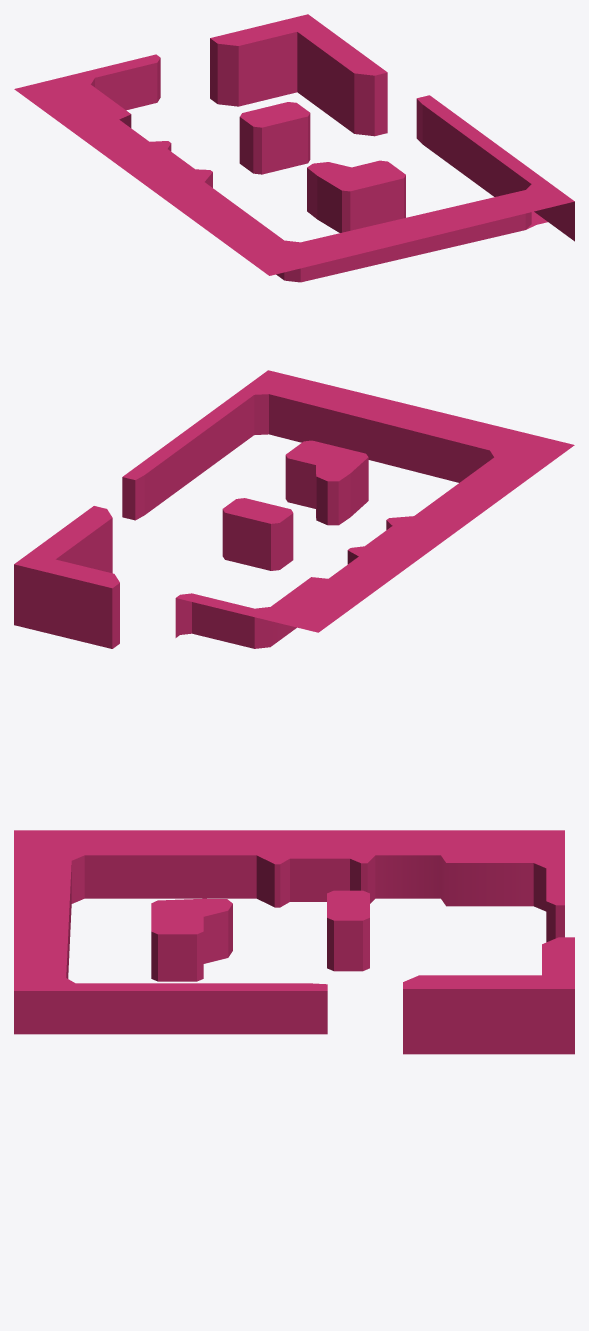
Rendered from Left_Colliders.fbx.
3 views of the same model, one above another, from view 1: azimuth 30°, elevation 25°; view 2: azimuth 150°, elevation 25°; view 3: azimuth 270°, elevation 25° (orthographic). The views are drawn at different scales.
Parts seen in each view (by area): view 1: Left_Colliders2; view 2: Left_Colliders2; view 3: Left_Colliders2.
Boxes of the visible parts, x1,y1,x2,y2 form: Left_Colliders2: (14,14,574,282); Left_Colliders2: (14,370,574,648); Left_Colliders2: (14,830,574,1054).
Bounding box in the file's own units: 1566 × 1363 × 2147.
